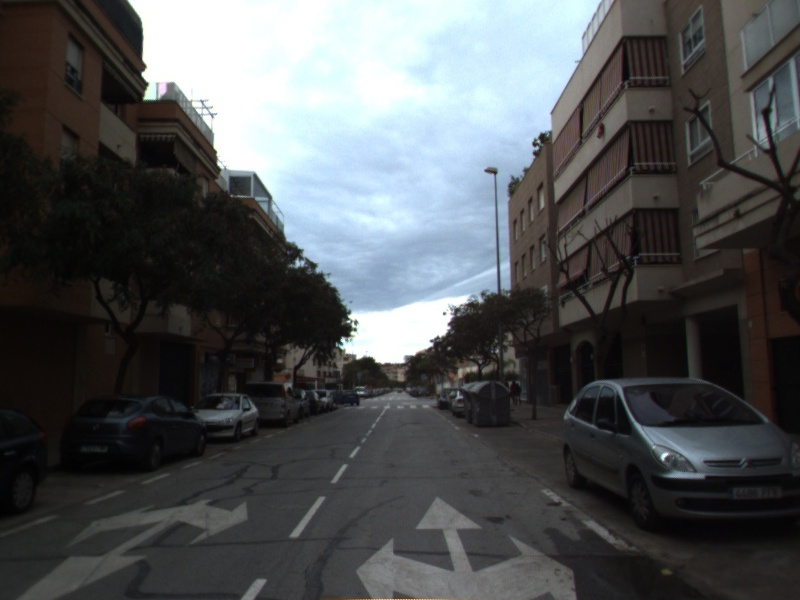STRAIGHT_LEFT_RIGHT: (353, 491, 579, 600)
